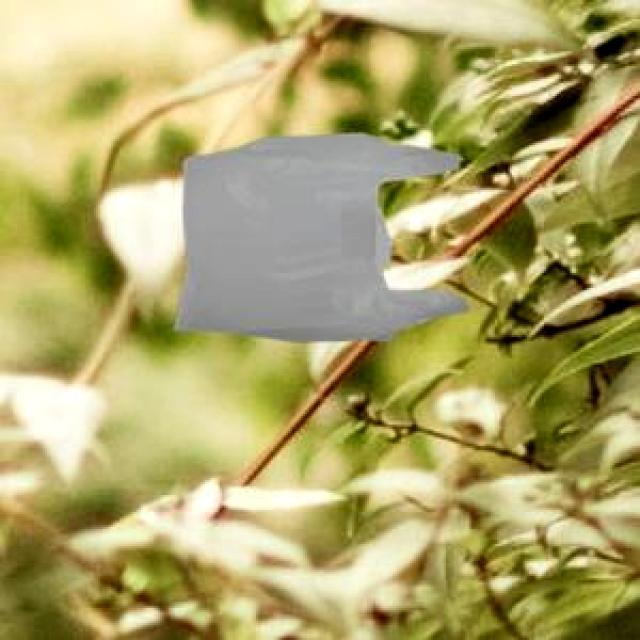Plastic_Bag: (174, 131, 466, 338)
